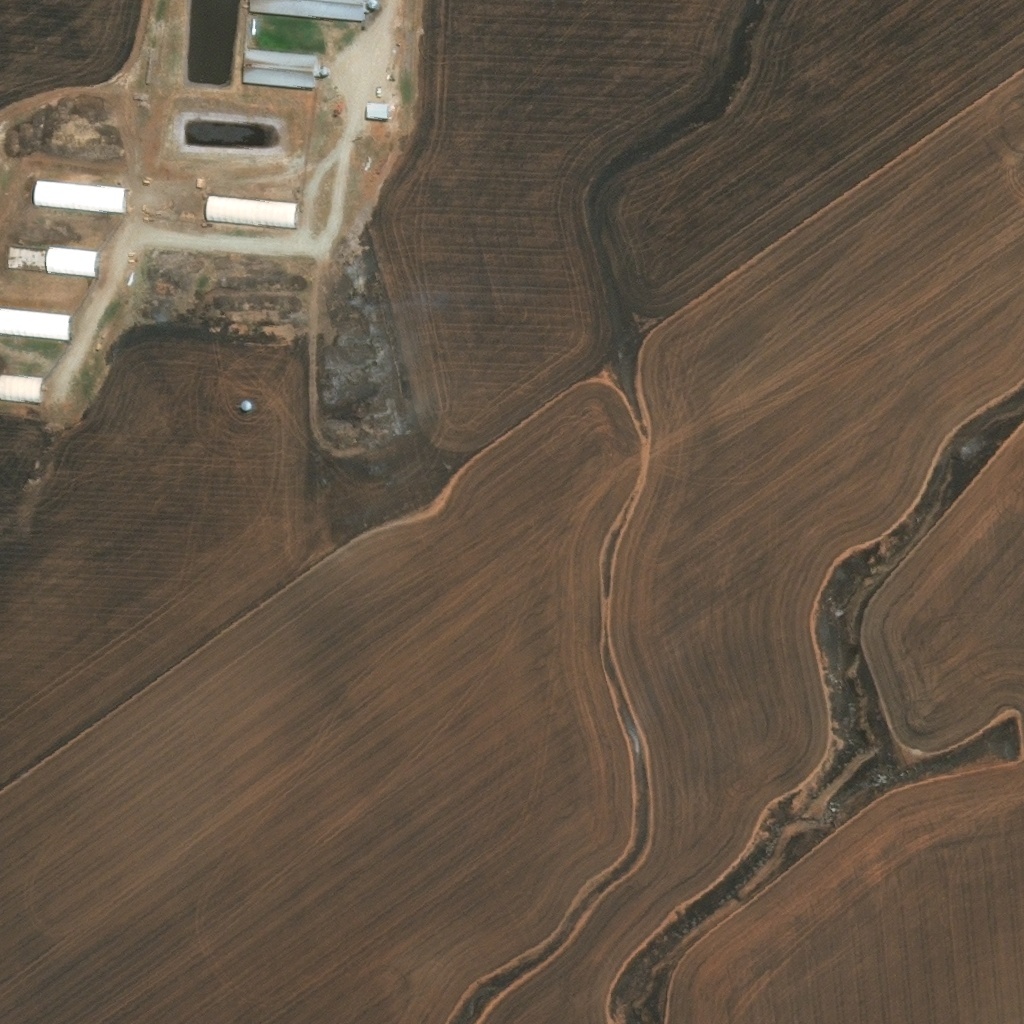0 no-damage: (32, 180, 125, 214), (205, 197, 297, 230), (243, 49, 315, 88), (249, 0, 365, 20), (0, 309, 70, 341), (47, 246, 97, 278), (0, 374, 41, 404), (367, 101, 388, 118), (319, 65, 329, 75), (368, 0, 379, 6)
